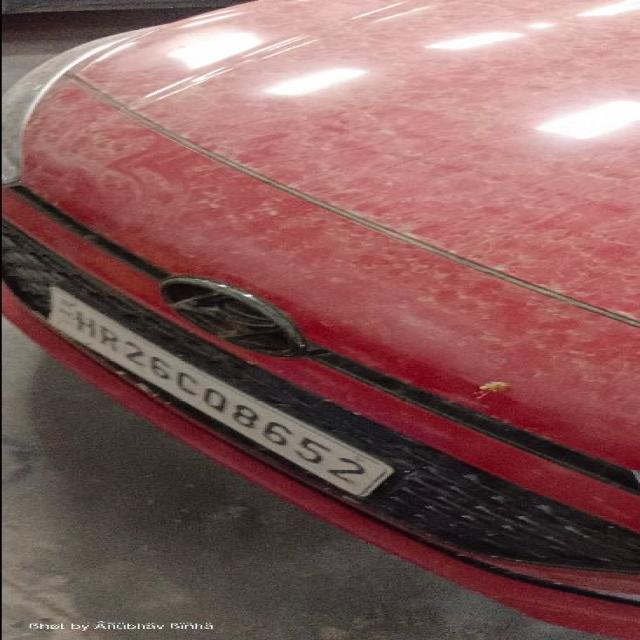license_plate: (1, 1, 636, 621)
